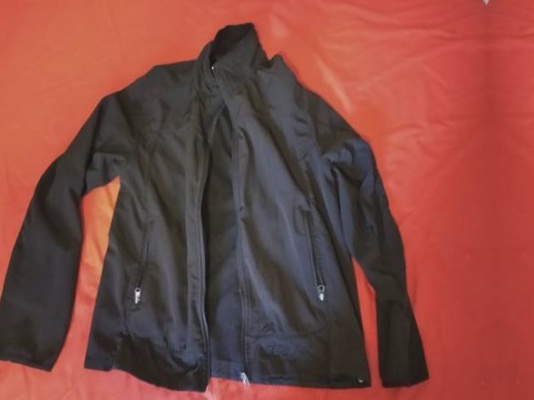Blazer: (0, 31, 442, 400)
